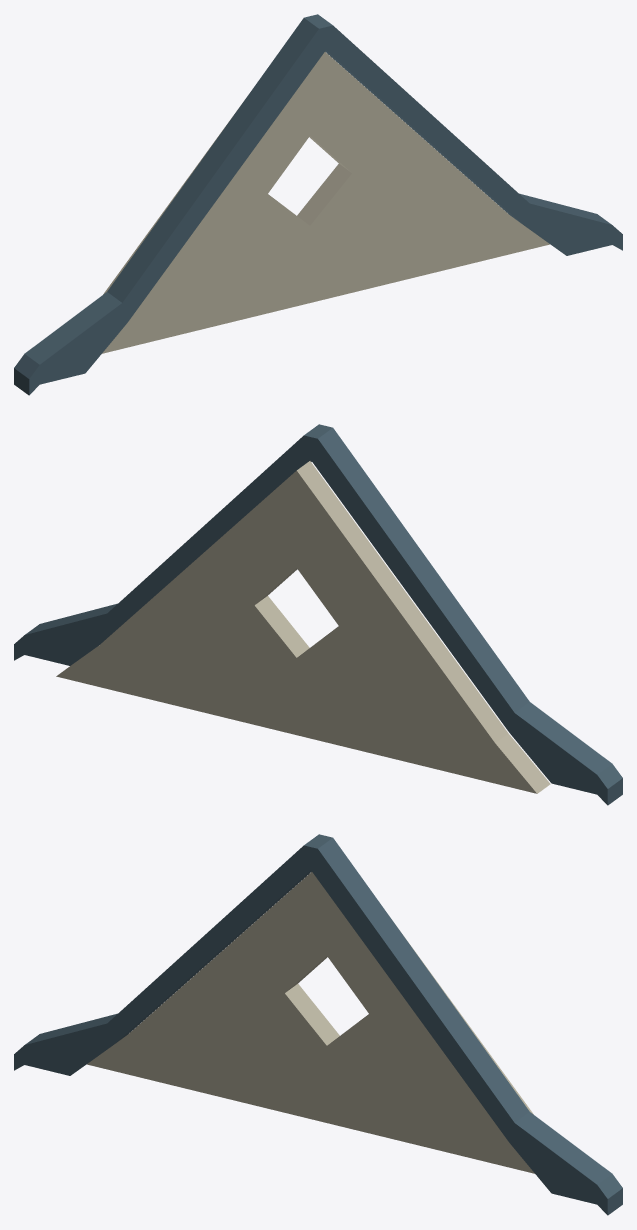
Rendered from vented_hall_gable.glb.
3 renders of one model, top to bottom at view 1: azimuth 30°, elevation 25°; view 2: azimuth 150°, elevation 25°; view 3: azimuth 330°, elevation 25°, orthographic.
Parts seen in each view (by area): view 1: Vented hall gable; view 2: Vented hall gable; view 3: Vented hall gable.
Part boxes in pixels (box(x1,y1,x2,y2)): Vented hall gable: box(14, 14, 622, 395); Vented hall gable: box(14, 424, 622, 805); Vented hall gable: box(14, 834, 622, 1215).
Bounding box in the file's own units: 3.38 × 1.61 × 0.29.
